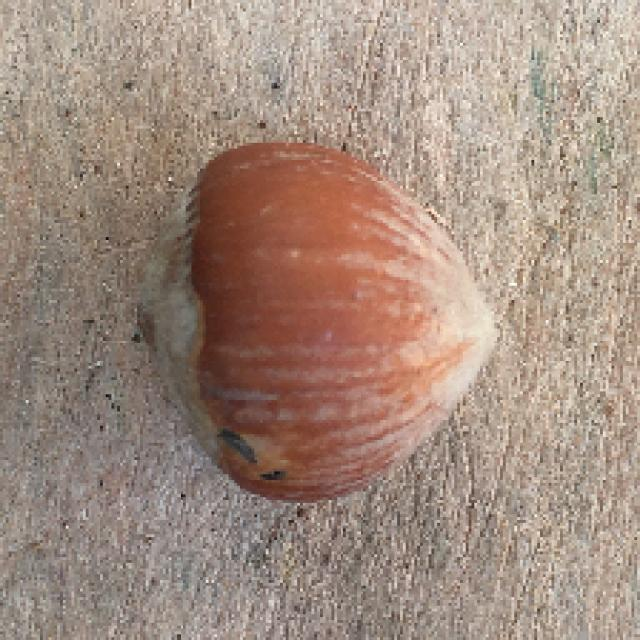qualityHazelnut: (141, 126, 496, 512)
